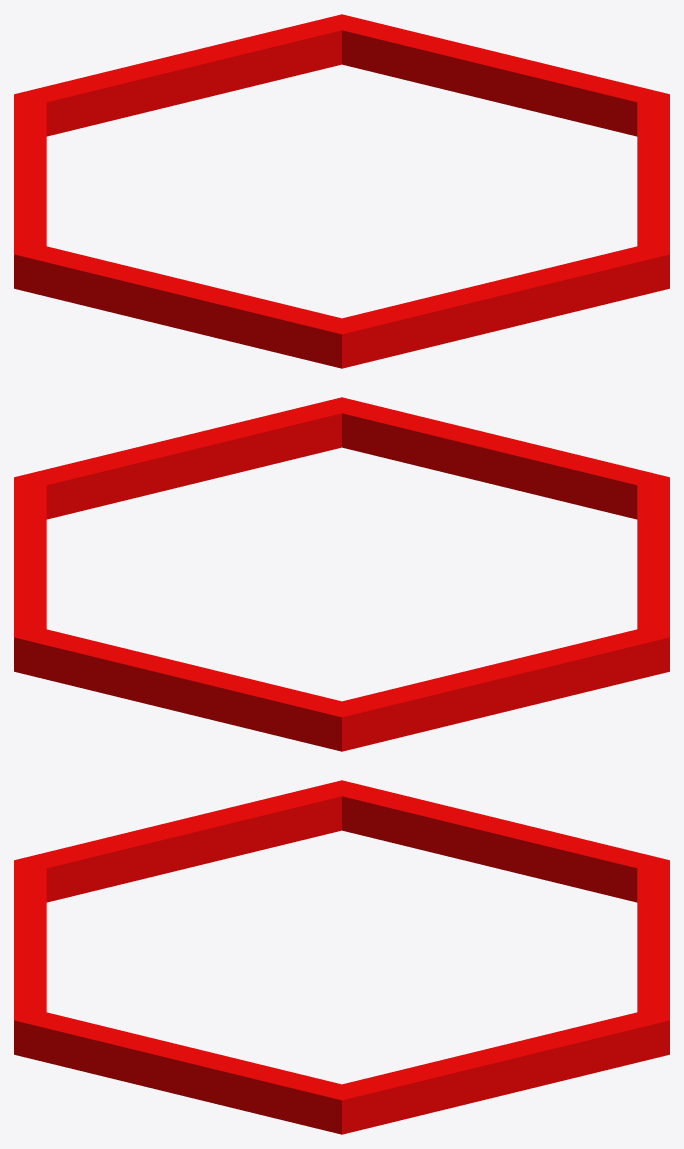
File: cursor_hexagonal.obj
3 views of the same model, one above another, from view 1: azimuth 30°, elevation 25°; view 2: azimuth 150°, elevation 25°; view 3: azimuth 270°, elevation 25° (orthographic).
Parts seen in each view (by area): view 1: hexagon; view 2: hexagon; view 3: hexagon.
Part boxes in pixels (x1=…): hexagon: x1=14, y1=14, x2=669, y2=368; hexagon: x1=14, y1=397, x2=669, y2=751; hexagon: x1=14, y1=780, x2=669, y2=1134.
Size of the model in its own units: 2 by 0.1 by 1.73.
